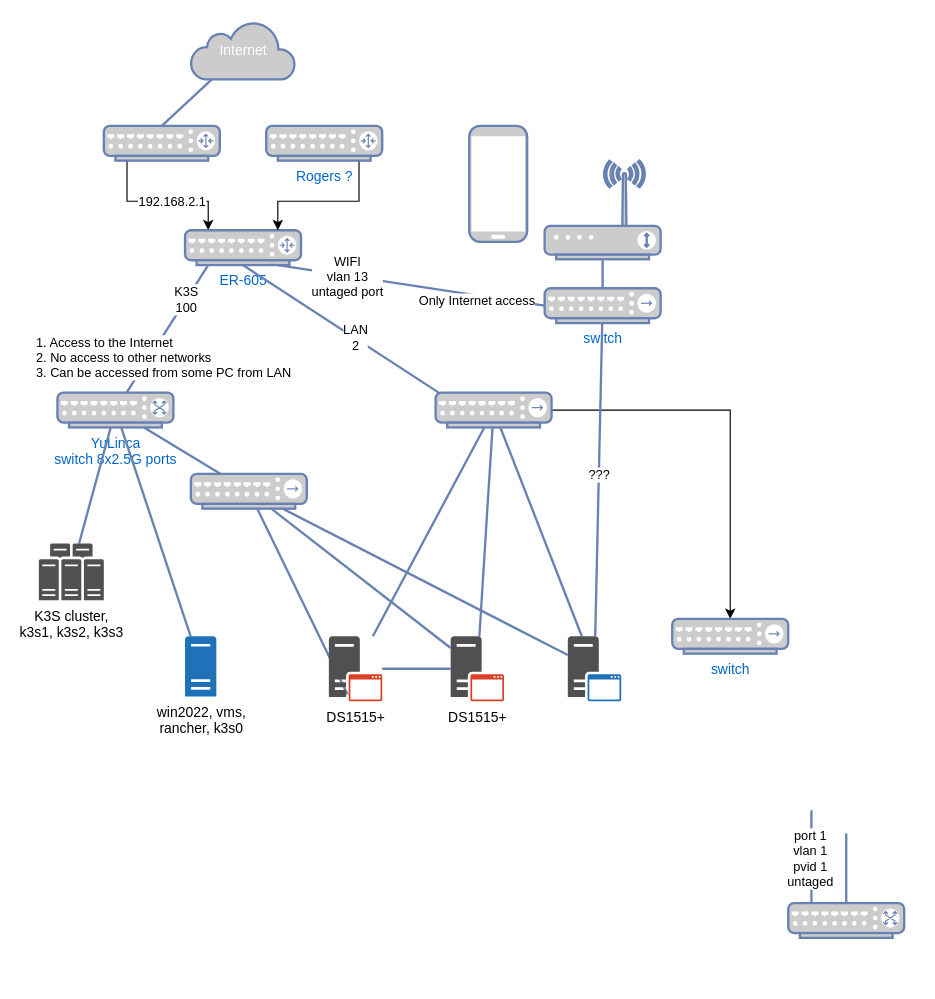
The diagram is 935 pixels wide and 999 high, and some of its shapes have lost their labels. Each missing label, with the centre of its shape:
Acanac: (x=161, y=142)
DS1815+: (x=594, y=668)
switch 8x 1G: (x=248, y=490)
switch Cisco 16x1G: (x=493, y=409)
TL-SG108E managed switch 8x1G: (x=845, y=919)
